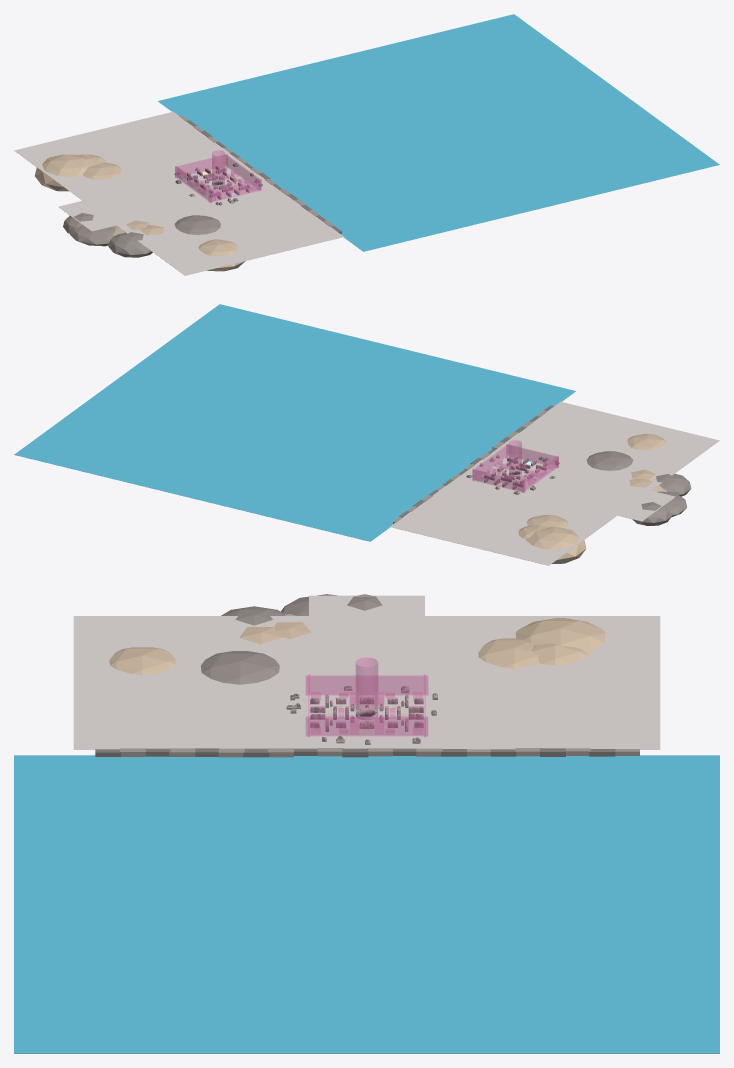
The model's file is Buracona_Static.fbx.
The picture shows the model from 3 angles, top to bottom: view 1: azimuth 30°, elevation 25°; view 2: azimuth 150°, elevation 25°; view 3: azimuth 270°, elevation 25°; orthographic projection. The views are drawn at different scales.
Visible parts, largest first — view 1: BG_Mar, GRD_Planicie, BG_Monte_8, GRD_Chao, BG_Monte_0, BG_Falesia, BG_Monte_9, BG_Monte_3, BG_Monte_7, COL_Box_Limite_S, COL_Box_Limite_N, BG_Monte_13 (+2 smaller); view 2: BG_Mar, GRD_Planicie, BG_Monte_8, GRD_Chao, BG_Falesia, BG_Monte_9, COL_Box_Limite_N, COL_Box_Limite_S, BG_Monte_0, BG_Monte_6, BG_Monte_7, COL_Box_Limite_W (+2 smaller); view 3: BG_Mar, GRD_Planicie, BG_Falesia, GRD_Chao, COL_Box_Limite_E, COL_Box_Limite_W, BG_Monte_8, BG_Monte_9, BG_Monte_7, BG_Monte_13, COL_Mesh_Buraco_Barreira_Pass, BG_Monte_10.
Boxes of the visible parts, left/top/right/bottom form: BG_Mar: left=158, top=14, right=719, bottom=251; GRD_Planicie: left=14, top=111, right=343, bottom=275; BG_Monte_8: left=34, top=154, right=89, bottom=191; GRD_Chao: left=178, top=166, right=259, bottom=202; BG_Monte_0: left=108, top=232, right=152, bottom=257; BG_Falesia: left=179, top=115, right=341, bottom=233; BG_Monte_9: left=174, top=215, right=220, bottom=234; BG_Monte_3: left=70, top=225, right=115, bottom=246; BG_Monte_7: left=198, top=239, right=245, bottom=271; COL_Box_Limite_S: left=209, top=179, right=261, bottom=202; COL_Box_Limite_N: left=175, top=154, right=227, bottom=177; BG_Monte_13: left=83, top=162, right=121, bottom=179; BG_Mar: left=14, top=304, right=575, bottom=541; GRD_Planicie: left=390, top=401, right=719, bottom=565; BG_Monte_8: left=525, top=527, right=586, bottom=563; GRD_Chao: left=474, top=456, right=555, bottom=491; BG_Falesia: left=393, top=405, right=553, bottom=523; BG_Monte_9: left=586, top=451, right=633, bottom=470; COL_Box_Limite_N: left=472, top=469, right=524, bottom=492; COL_Box_Limite_S: left=506, top=444, right=558, bottom=467; BG_Monte_0: left=656, top=474, right=691, bottom=496; BG_Monte_6: left=632, top=502, right=672, bottom=525; BG_Monte_7: left=627, top=434, right=666, bottom=450; COL_Box_Limite_W: left=522, top=456, right=558, bottom=492; BG_Mar: left=14, top=755, right=719, bottom=1053; GRD_Planicie: left=73, top=595, right=660, bottom=749; BG_Falesia: left=95, top=748, right=639, bottom=757; GRD_Chao: left=309, top=695, right=424, bottom=735; COL_Box_Limite_E: left=306, top=716, right=427, bottom=736; COL_Box_Limite_W: left=306, top=675, right=427, bottom=695; BG_Monte_8: left=515, top=618, right=605, bottom=653; BG_Monte_9: left=201, top=651, right=279, bottom=684; BG_Monte_7: left=109, top=647, right=175, bottom=675; BG_Monte_13: left=478, top=638, right=539, bottom=668; COL_Mesh_Buraco_Barreira_Pass: left=356, top=657, right=377, bottom=716; BG_Monte_10: left=532, top=643, right=587, bottom=665.
Bounding box in the file's own units: 466 × 41.24 × 300.
